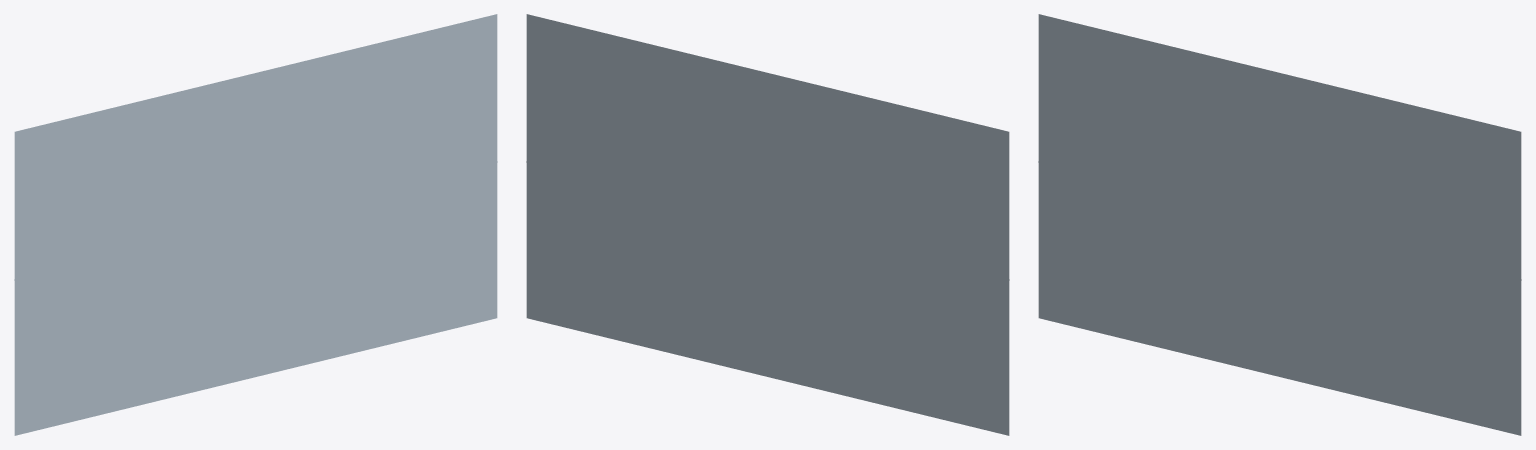
The model's file is Keqing_StarwardSword_CancelAfterCombo_OneCommittedSlash8.fbx.
The picture shows the model from 3 angles, left to right: view 1: azimuth 30°, elevation 25°; view 2: azimuth 150°, elevation 25°; view 3: azimuth 330°, elevation 25°; orthographic projection.
Visible parts, largest first — view 1: PART_OneGroupElectroSweepBody_8, PART_OnePurpleBladeWake_8, PART_OneSharpWhiteBlade_8; view 2: PART_OneGroupElectroSweepBody_8, PART_OnePurpleBladeWake_8, PART_OneSharpWhiteBlade_8; view 3: PART_OneGroupElectroSweepBody_8, PART_OnePurpleBladeWake_8.
Part boxes in pixels (<box>): PART_OneGroupElectroSweepBody_8: <box>14,14,497,435</box>; PART_OnePurpleBladeWake_8: <box>14,161,497,288</box>; PART_OneSharpWhiteBlade_8: <box>14,166,494,284</box>; PART_OneGroupElectroSweepBody_8: <box>526,14,1009,435</box>; PART_OnePurpleBladeWake_8: <box>526,161,1009,287</box>; PART_OneSharpWhiteBlade_8: <box>527,165,1009,284</box>; PART_OneGroupElectroSweepBody_8: <box>1038,14,1521,435</box>; PART_OnePurpleBladeWake_8: <box>1038,161,1521,288</box>.
Size of the model in its own units: 829 by 499 by 8.12e-05.
